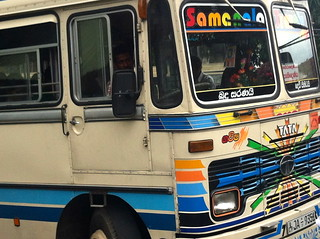bus: (1, 1, 320, 239)
